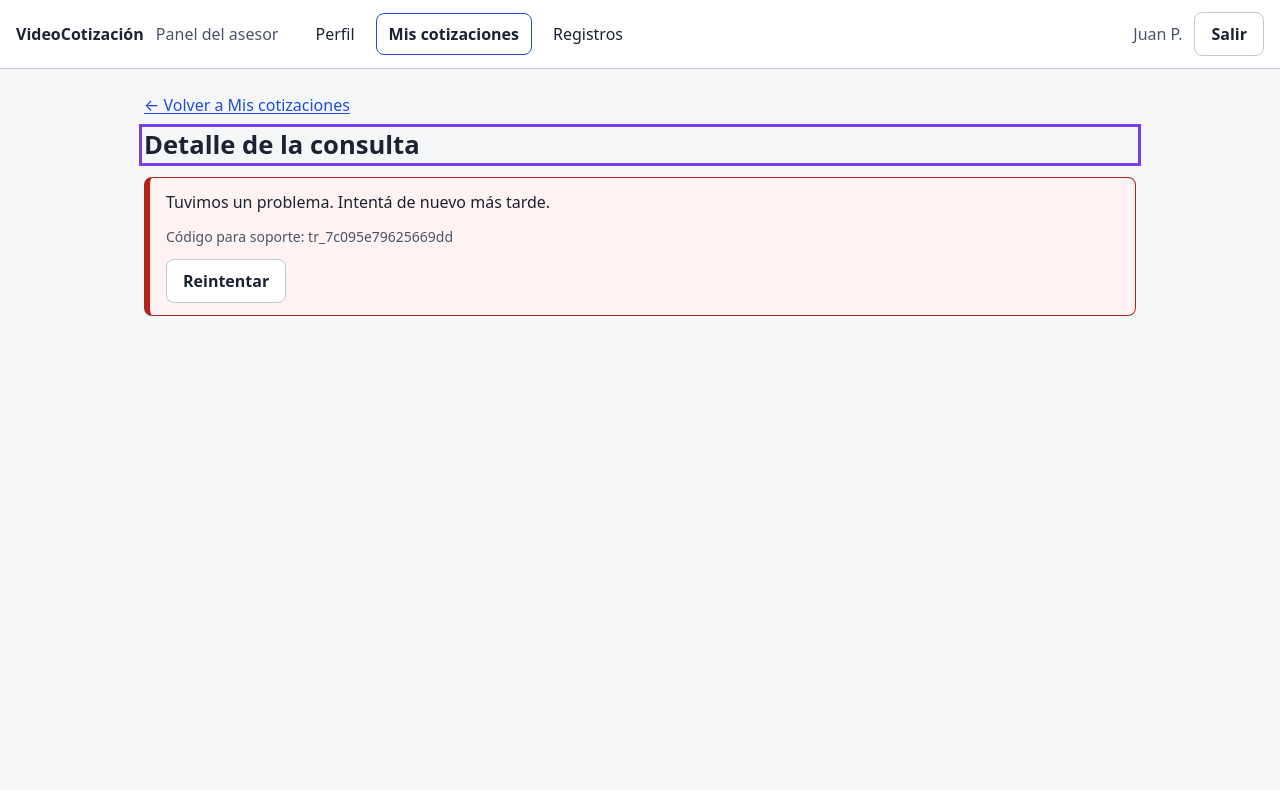
Test case: Detalle de una cotización › si falla la carga permite reintentar
Expected: the message shows "Tuvimos un problema. Intentá de nuevo más tarde.", [166,191,550,213]
Click the button "Reintentar": [226, 281] box [166,259,286,303]
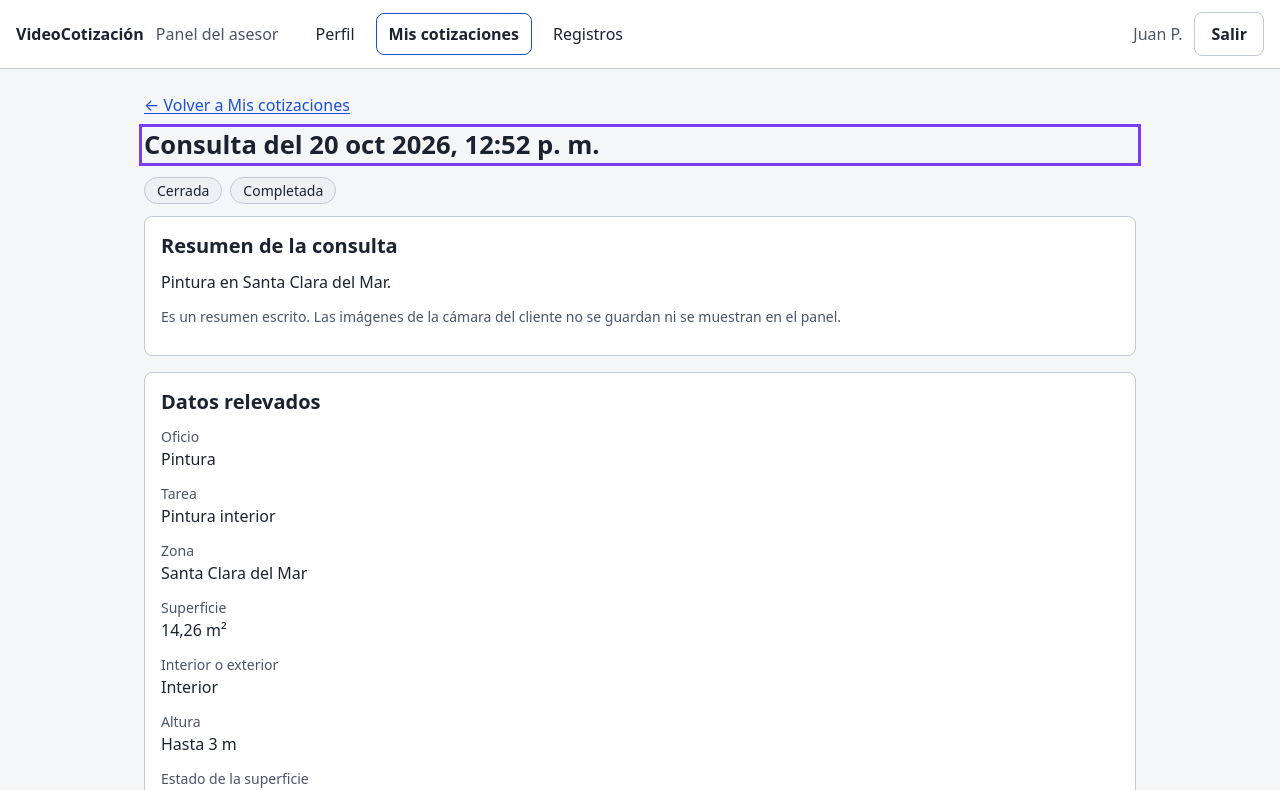
Expected: the heading "Consulta del 20 oct 2026, 12:52 p. m." is shown, [144,127,600,162]
